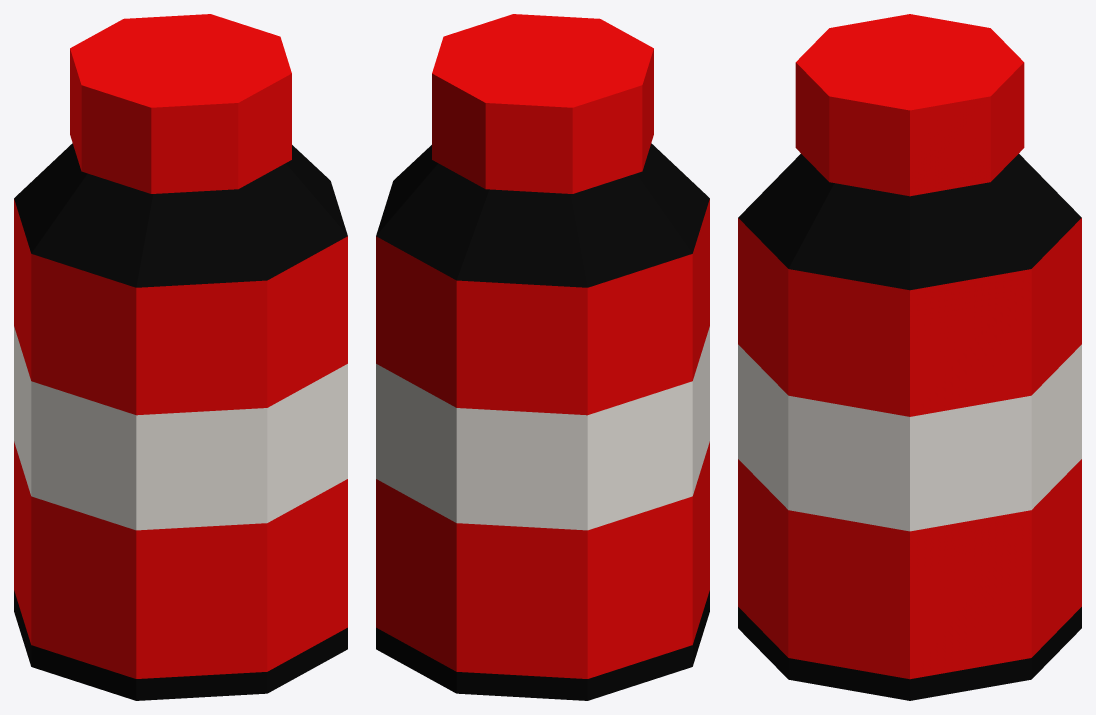
The model's file is Produce_Bottle2.fbx.
3 views of the same model, side by side, from view 1: azimuth 30°, elevation 25°; view 2: azimuth 150°, elevation 25°; view 3: azimuth 270°, elevation 25° (orthographic).
Parts seen in each view (by area): view 1: Cylinder001; view 2: Cylinder001; view 3: Cylinder001.
Part boxes in pixels (x1,y1,x2,y2): Cylinder001: (14, 14, 347, 700); Cylinder001: (376, 14, 709, 700); Cylinder001: (738, 14, 1081, 700).
Bounding box in the file's own units: 5.93 × 10.78 × 5.93.
